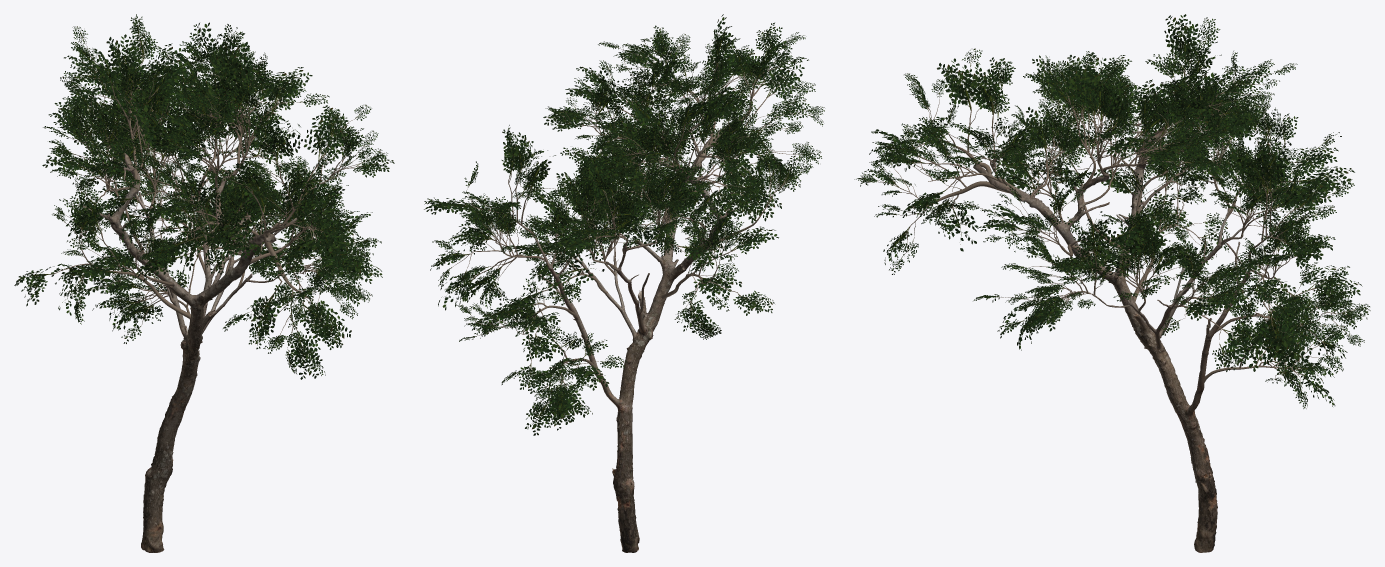
The model's file is tree_small_02_LOD1.glb.
3 views of the same model, side by side, from view 1: azimuth 30°, elevation 25°; view 2: azimuth 150°, elevation 25°; view 3: azimuth 270°, elevation 25° (orthographic). The views are drawn at different scales.
Visible parts, largest first — view 1: tree_small_02_LOD1__lod0; view 2: tree_small_02_LOD1__lod0; view 3: tree_small_02_LOD1__lod0.
Boxes of the visible parts, x1,y1,x2,y2 form: tree_small_02_LOD1__lod0: [14, 14, 394, 552]; tree_small_02_LOD1__lod0: [424, 14, 824, 552]; tree_small_02_LOD1__lod0: [854, 14, 1370, 552].
Size of what is drawn, in the model's own units: 2.92 by 4.56 by 4.29.
Materials: 3 (3 with a texture image).
